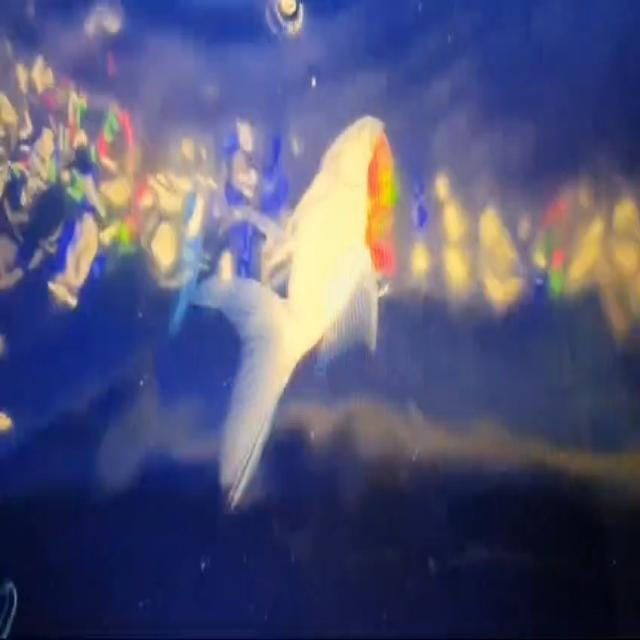fish: (210, 105, 392, 518)
